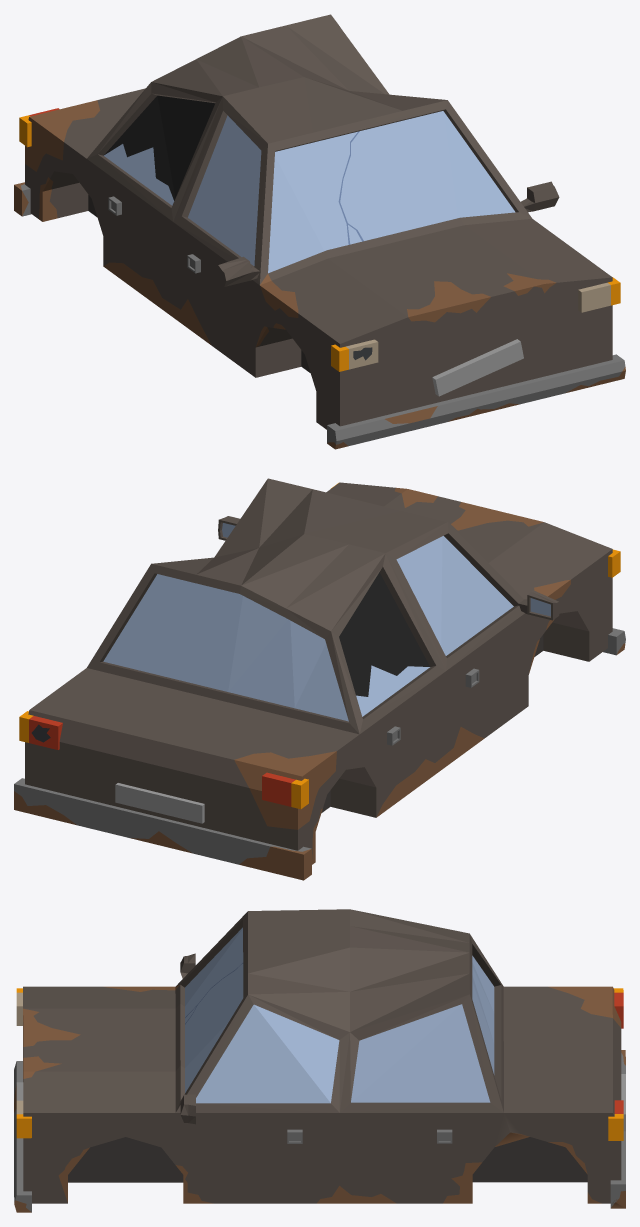
Rendered from OldCar_01.glb.
The picture shows the model from 3 angles, top to bottom: view 1: azimuth 30°, elevation 25°; view 2: azimuth 150°, elevation 25°; view 3: azimuth 270°, elevation 25°; orthographic projection. The views are drawn at different scales.
Visible parts, largest first — view 1: OldCar_01; view 2: OldCar_01; view 3: OldCar_01.
Part boxes in pixels (x1,y1,x2,y2): OldCar_01: [14, 14, 625, 449]; OldCar_01: [14, 478, 625, 880]; OldCar_01: [14, 909, 625, 1212].
Size of the model in its own units: 1.96 by 1.17 by 3.26.
1 material, 1 textured.
